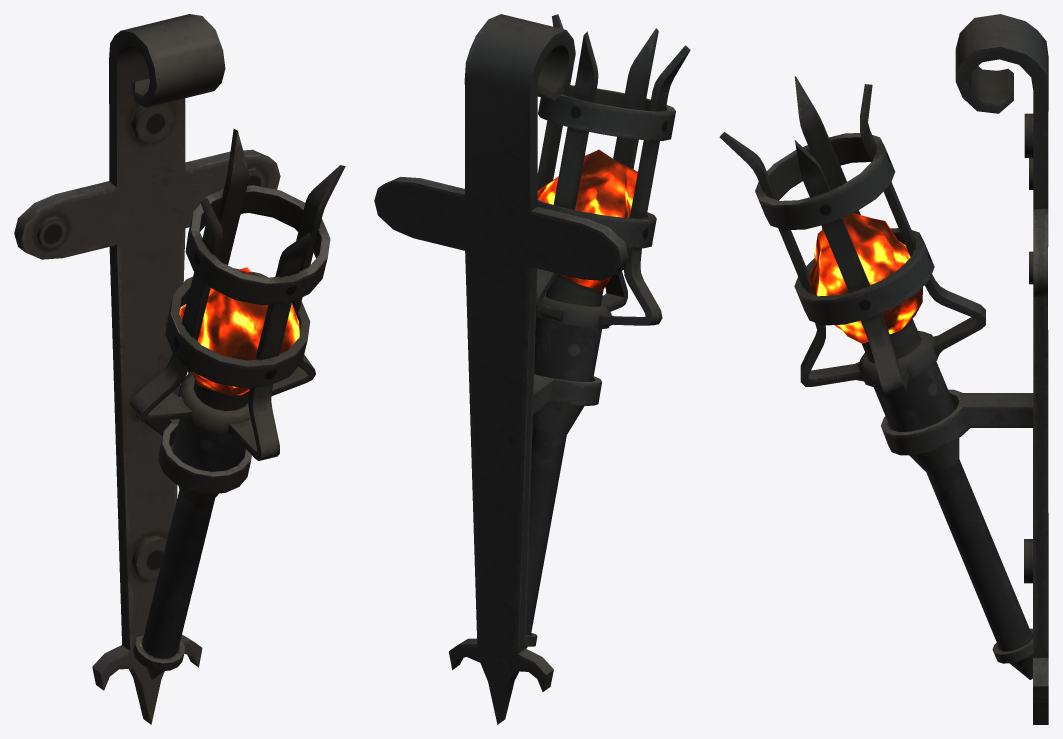
3 renders of one model, left to right at view 1: azimuth 30°, elevation 25°; view 2: azimuth 150°, elevation 25°; view 3: azimuth 270°, elevation 25°, orthographic. The views are drawn at different scales.
Visible parts, largest first — view 1: torchholder, torch_2; view 2: torchholder, torch_2; view 3: torch_2, torchholder.
Boxes of the visible parts, bbox=[...] form: torchholder: bbox=[14, 14, 280, 724]; torch_2: bbox=[130, 128, 345, 679]; torchholder: bbox=[374, 14, 628, 724]; torch_2: bbox=[525, 14, 690, 648]; torch_2: bbox=[719, 76, 1032, 679]; torchholder: bbox=[881, 14, 1048, 724].
Bounding box in the file's own units: 40.86 × 108 × 46.21.
1 material, 1 textured.
